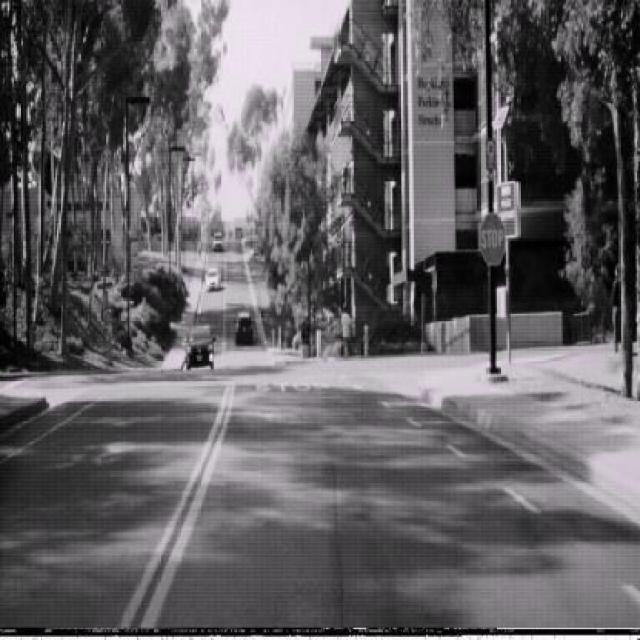stop: (478, 211, 506, 266)
